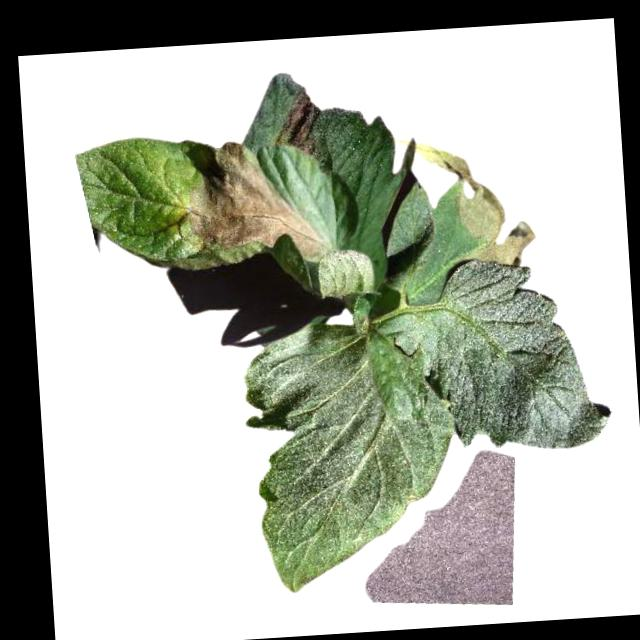Late_blight: (184, 134, 330, 271), (414, 131, 541, 270), (270, 90, 321, 159)
